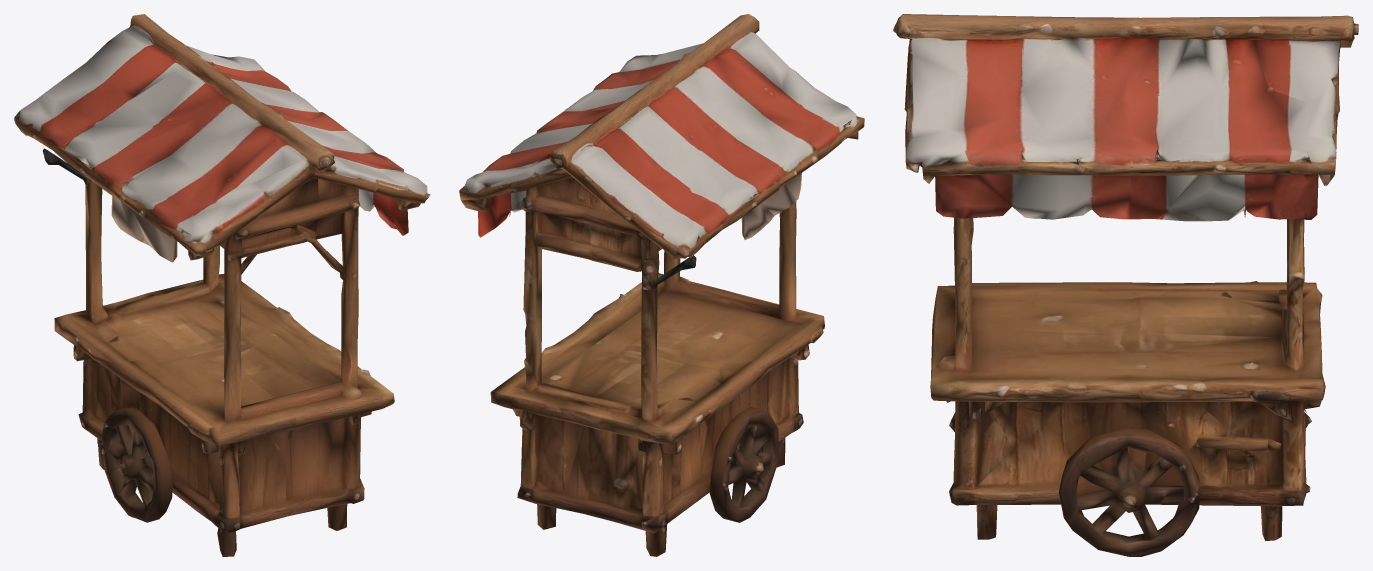
The model's file is yatai.glb.
The picture shows the model from 3 angles, left to right: view 1: azimuth 30°, elevation 25°; view 2: azimuth 150°, elevation 25°; view 3: azimuth 270°, elevation 25°; orthographic projection. The views are drawn at different scales.
Visible parts, largest first — view 1: tripo_node_8563f133-e596-4381-9071-45a17db9e797; view 2: tripo_node_8563f133-e596-4381-9071-45a17db9e797; view 3: tripo_node_8563f133-e596-4381-9071-45a17db9e797.
Part boxes in pixels (x1,y1,x2,y2): tripo_node_8563f133-e596-4381-9071-45a17db9e797: (14,14,430,556); tripo_node_8563f133-e596-4381-9071-45a17db9e797: (459,14,864,556); tripo_node_8563f133-e596-4381-9071-45a17db9e797: (893,14,1358,556).
Size of the model in its own units: 0.6074 by 0.9986 by 0.8532.
1 material, 1 textured.
